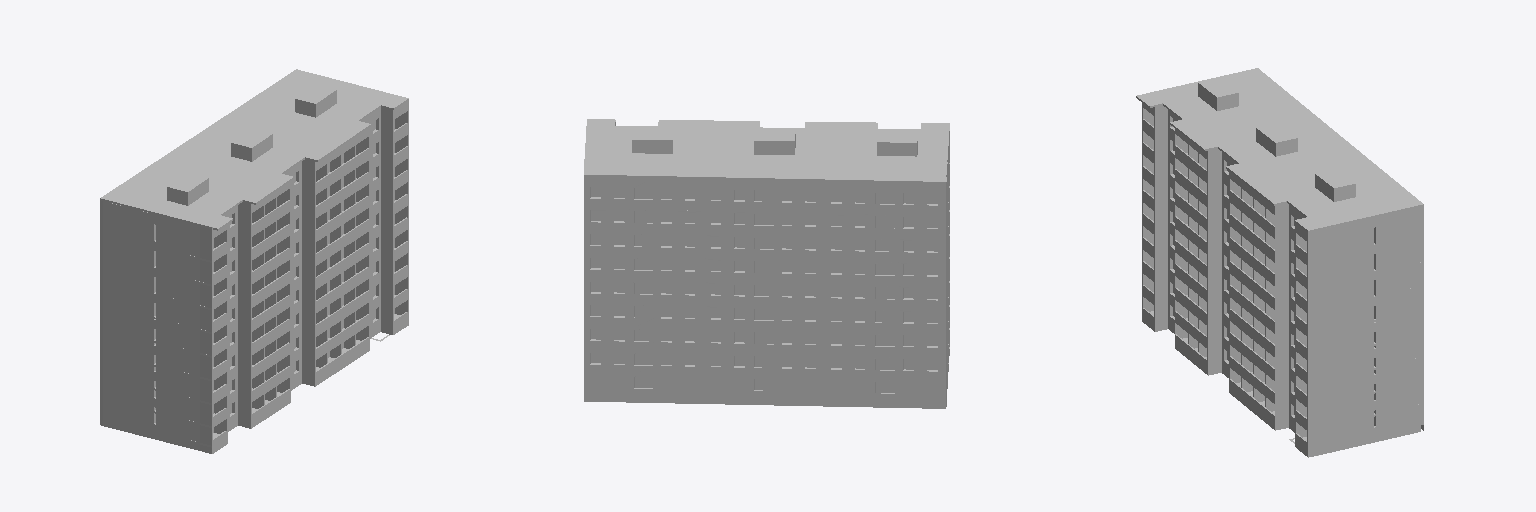
The model's file is Greenbuilding.obj.
3 renders of one model, left to right at view 1: azimuth 30°, elevation 25°; view 2: azimuth 150°, elevation 25°; view 3: azimuth 270°, elevation 25°, orthographic.
Visible parts, largest first — view 1: Mesh1 Component_6_1 Model; view 2: Mesh1 Component_6_1 Model; view 3: Mesh1 Component_6_1 Model.
Part boxes in pixels (left/top/right/bottom): Mesh1 Component_6_1 Model: left=100, top=69, right=408, bottom=453; Mesh1 Component_6_1 Model: left=584, top=119, right=949, bottom=408; Mesh1 Component_6_1 Model: left=1136, top=68, right=1423, bottom=457.
Bounding box in the file's own units: 53490 × 36852 × 39954.